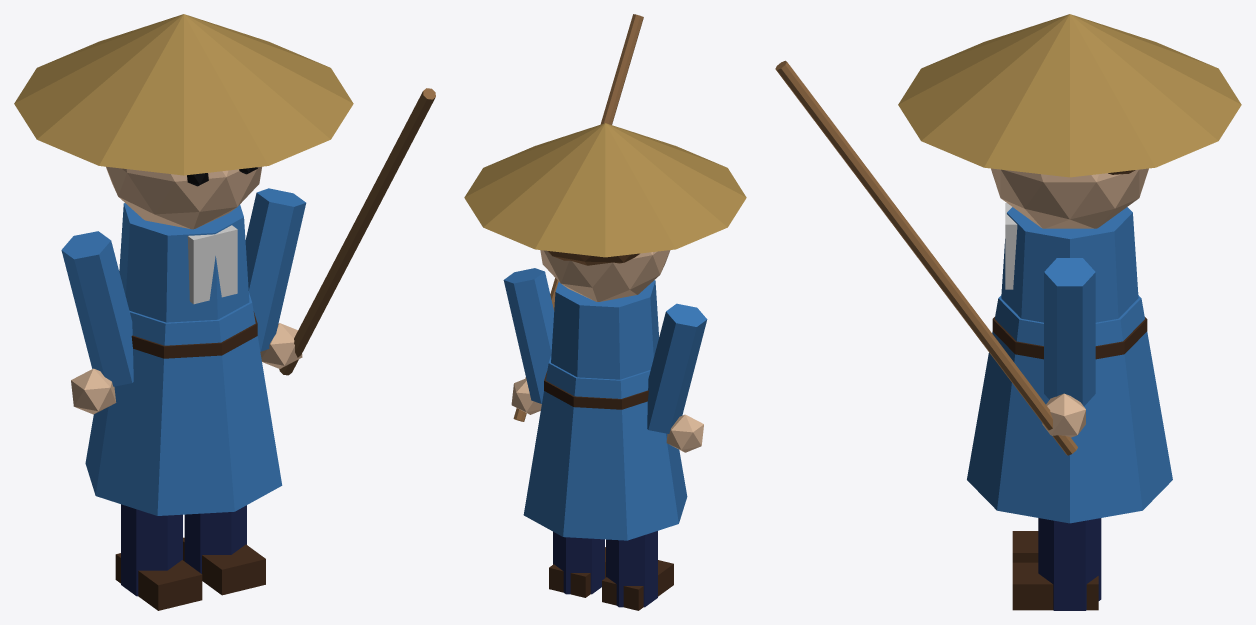
The model's file is SM_GZ_npc_fisher.fbx.
3 views of the same model, side by side, from view 1: azimuth 30°, elevation 25°; view 2: azimuth 150°, elevation 25°; view 3: azimuth 270°, elevation 25° (orthographic). The views are drawn at different scales.
Parts seen in each view (by area): view 1: SM_GZ_npc_fisher; view 2: SM_GZ_npc_fisher; view 3: SM_GZ_npc_fisher.
Boxes of the visible parts, box(x1,y1,x2,y2) form: SM_GZ_npc_fisher: box(14, 14, 435, 610); SM_GZ_npc_fisher: box(464, 14, 746, 610); SM_GZ_npc_fisher: box(775, 14, 1241, 610).
Bounding box in the file's own units: 120 × 221 × 163.
